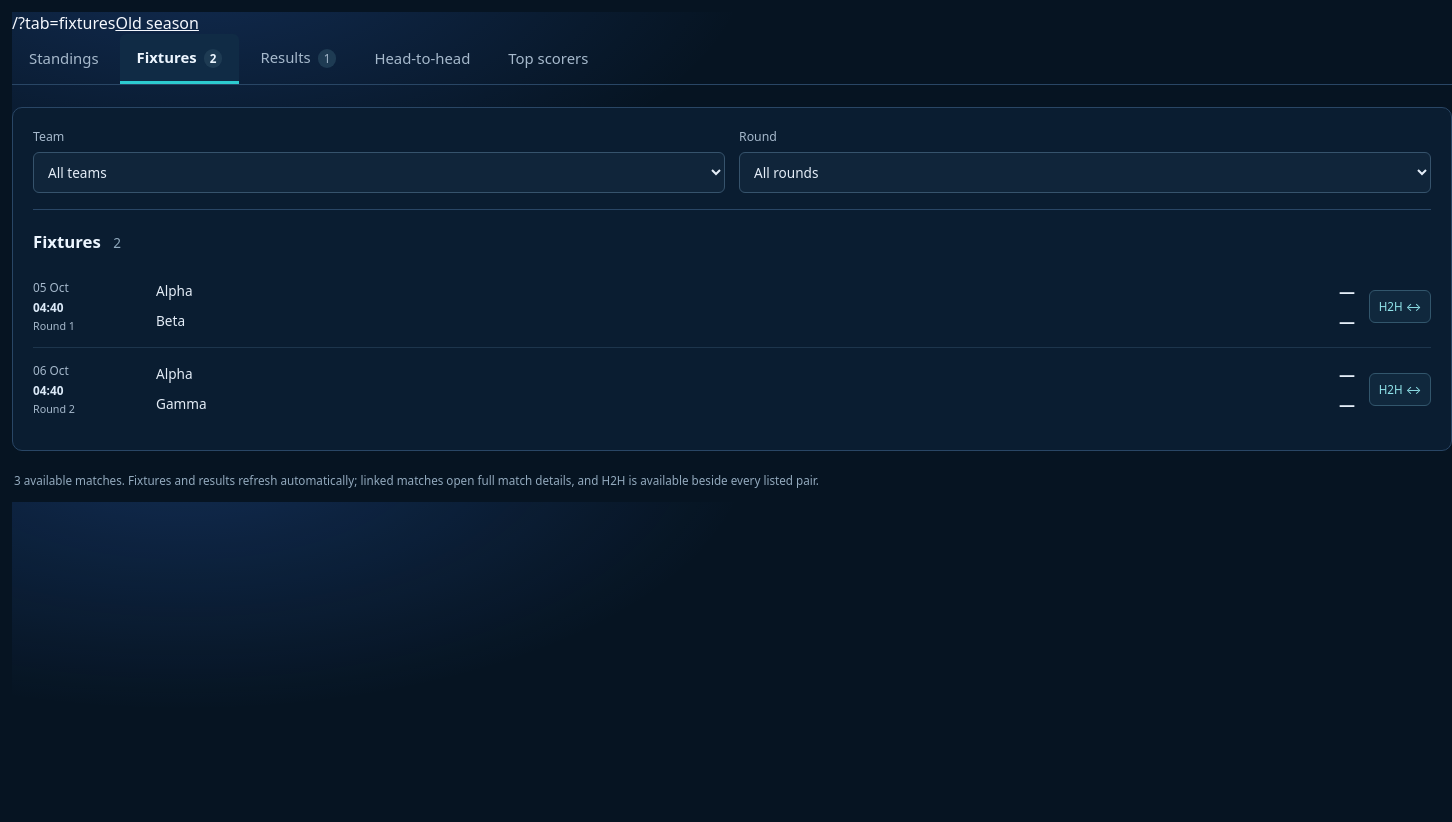
source-only fixtures compare without inventing an app match link
What coordinates should you click on to do the following:
click the button named "H2H: Alpha vs Gamma"
I would click on:
 (1400, 389)
Its box is [1369,372,1431,406].
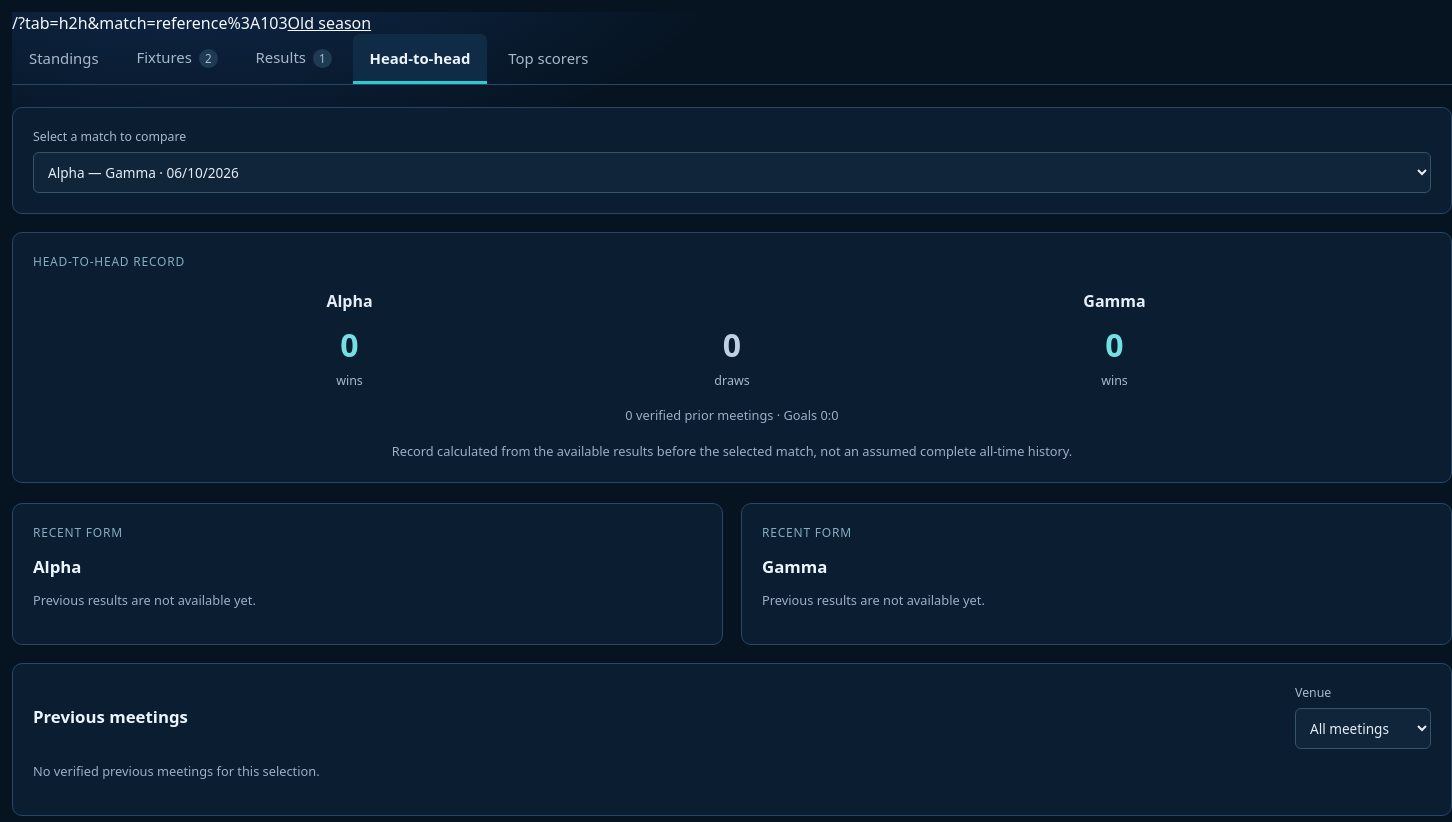
Check: the text "Head-to-head record" is shown, box [33,253,185,270]
